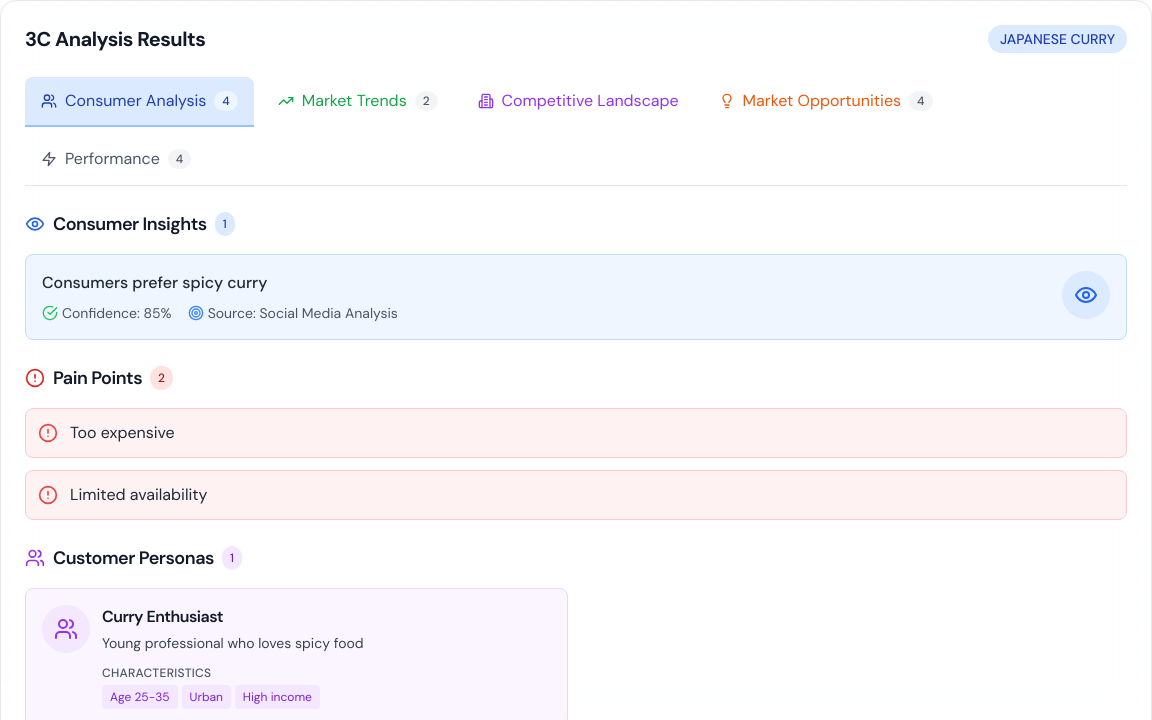
Scenario: ResultsDashboard › shows competitor analysis placeholder
// Click on Competitive Landscape tab
Click the button "Competitive Landscape".
click(578, 102)  # box [462, 77, 695, 127]
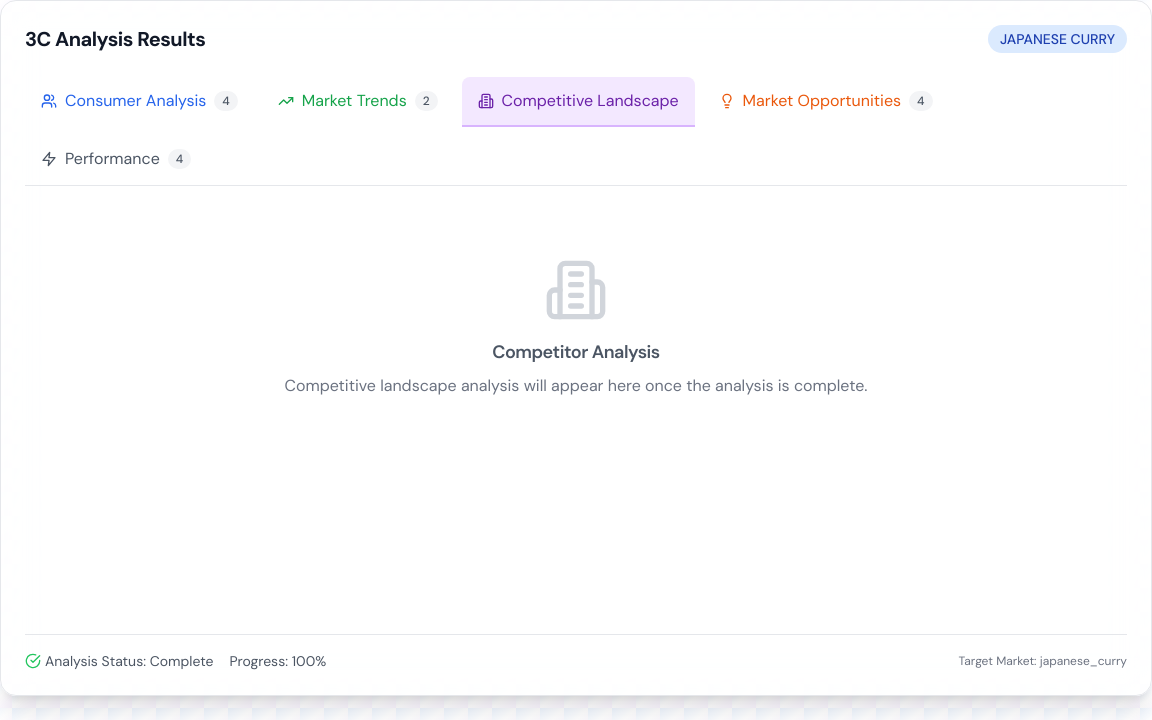
Check: the text "Competitive landscape analysis will appear here once the analysis is complete." is shown, box [284, 375, 868, 396]
